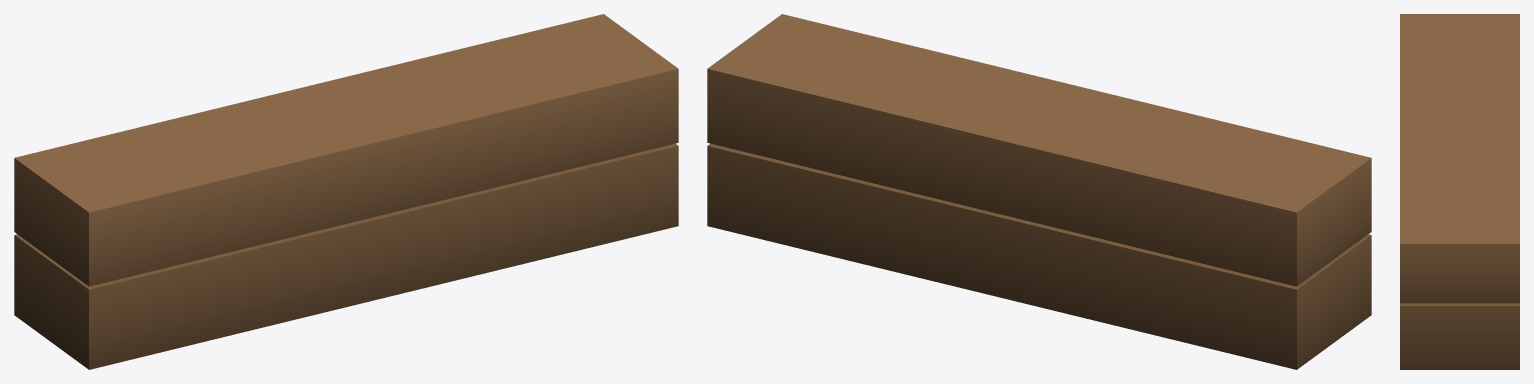
Rendered from golden-rail.glb.
3 renders of one model, left to right at view 1: azimuth 30°, elevation 25°; view 2: azimuth 150°, elevation 25°; view 3: azimuth 270°, elevation 25°, orthographic. The views are drawn at different scales.
Parts seen in each view (by area): view 1: golden-rail; view 2: golden-rail; view 3: golden-rail.
Boxes of the visible parts, bbox=[...] form: golden-rail: bbox=[14, 14, 678, 369]; golden-rail: bbox=[707, 14, 1371, 369]; golden-rail: bbox=[1400, 14, 1519, 369].
Bounding box in the file's own units: 1 × 0.255 × 0.22.
